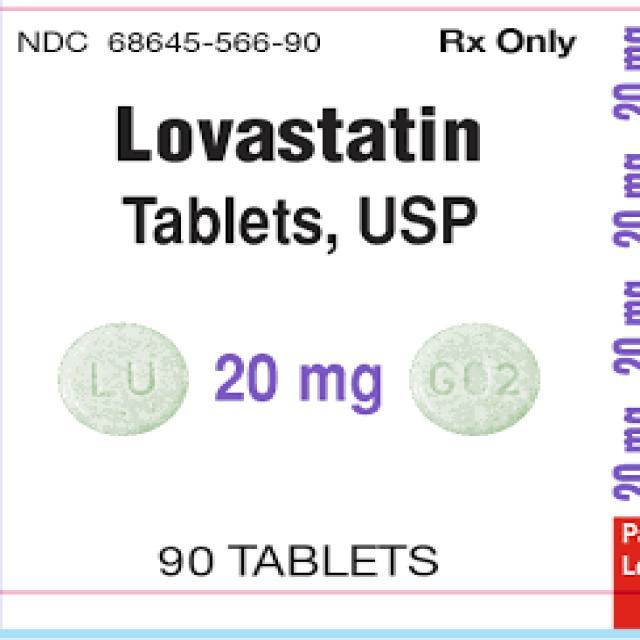drug-name: (110, 95, 497, 174)
